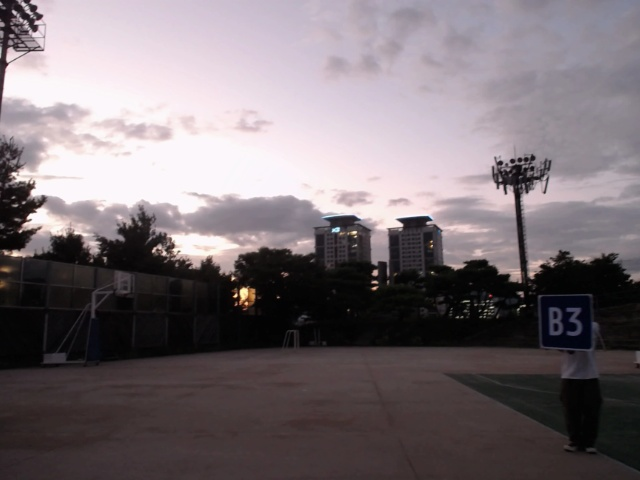delivery_b3: (537, 294, 593, 353)
